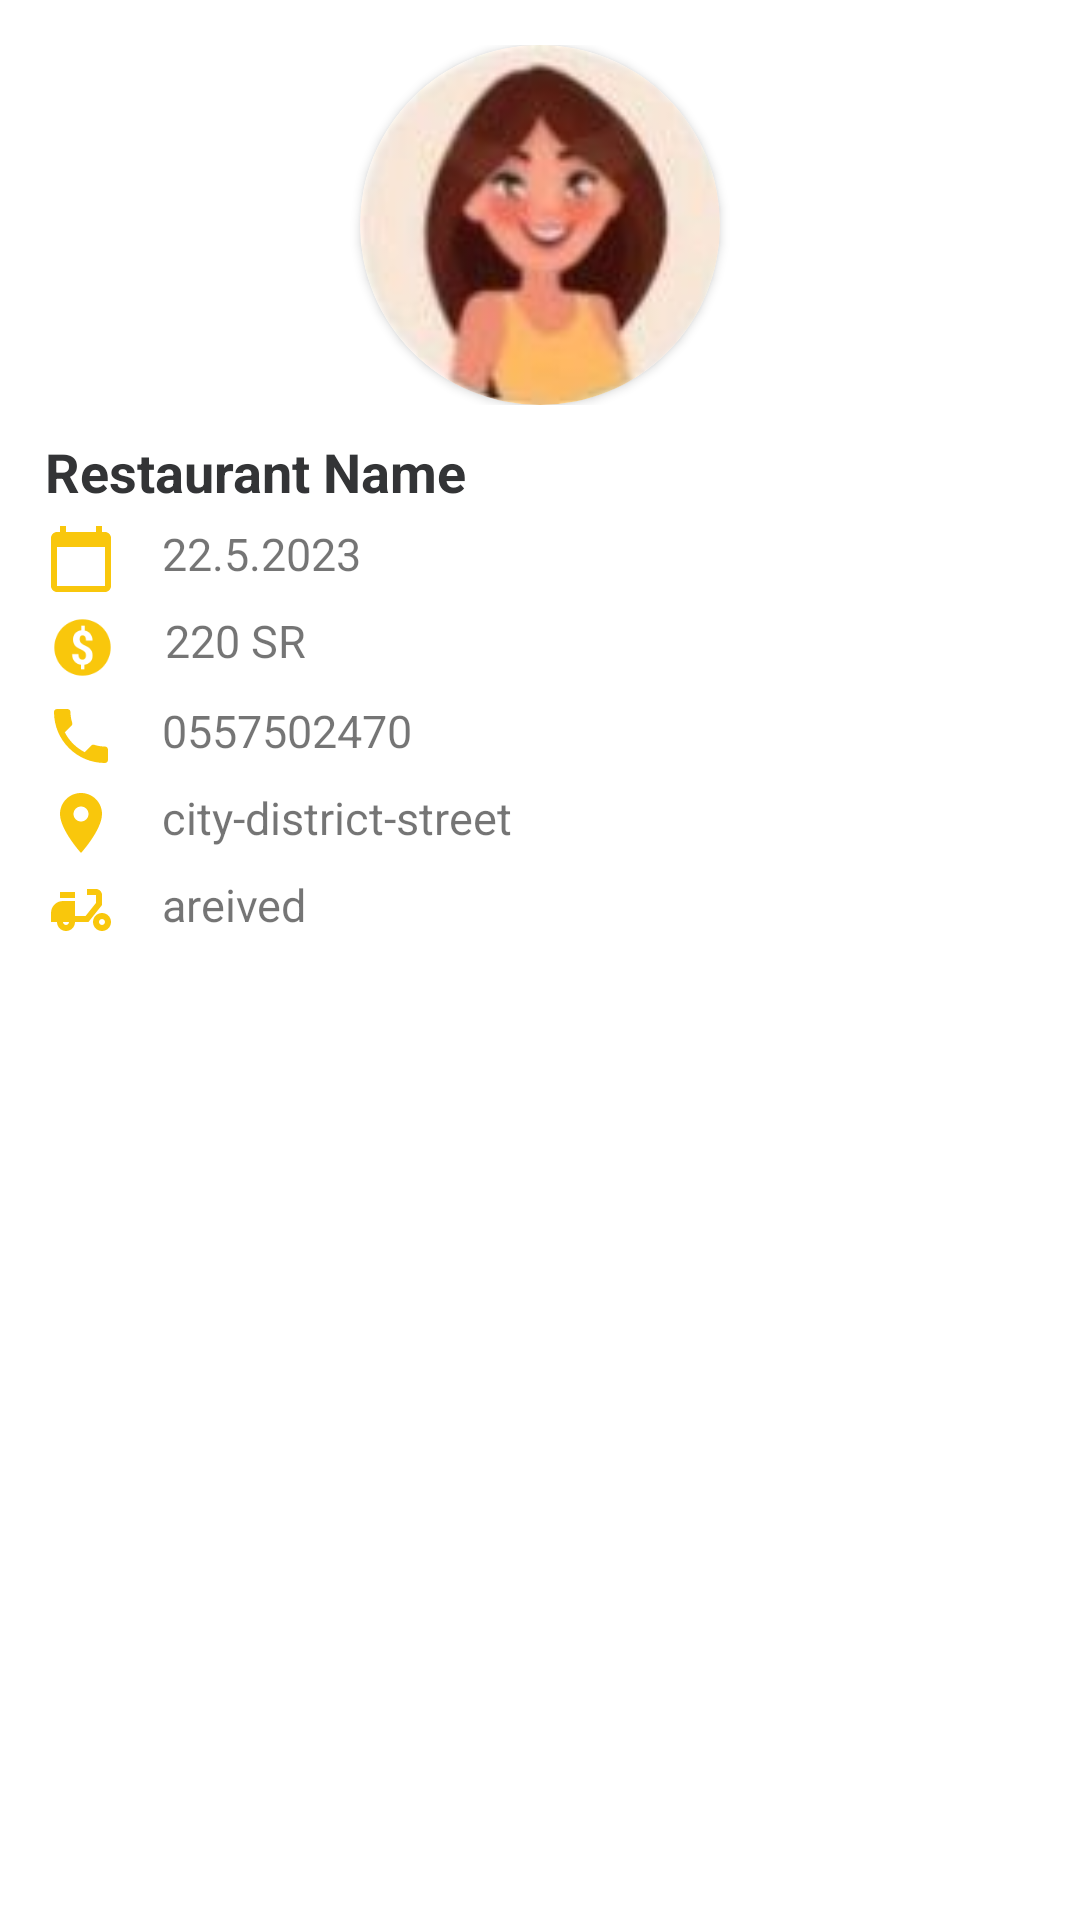

Icon bounding boxes for this 1080px x 1920px phone screenshot, format (x1, y1, x2, y2):
calendar: (51, 526, 111, 592)
coin: (54, 619, 111, 676)
girl: (360, 45, 720, 405)
location: (60, 793, 102, 853)
phone: (54, 709, 108, 763)
shipped: (51, 889, 111, 931)
